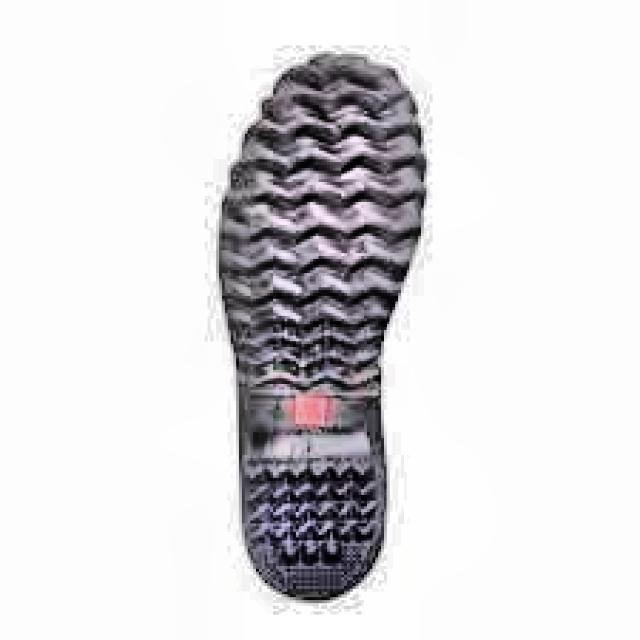shoes: (159, 39, 496, 608)
